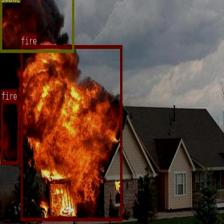fire: (20, 45, 122, 221), (1, 100, 19, 163)
smoke: (0, 0, 74, 52)
